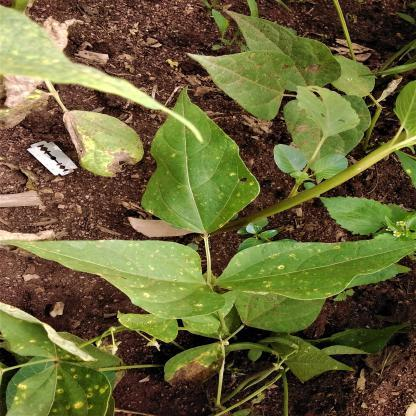Beans_Rust: (141, 96, 267, 223), (43, 237, 201, 312), (223, 241, 387, 296), (0, 302, 90, 366), (9, 361, 113, 413)
